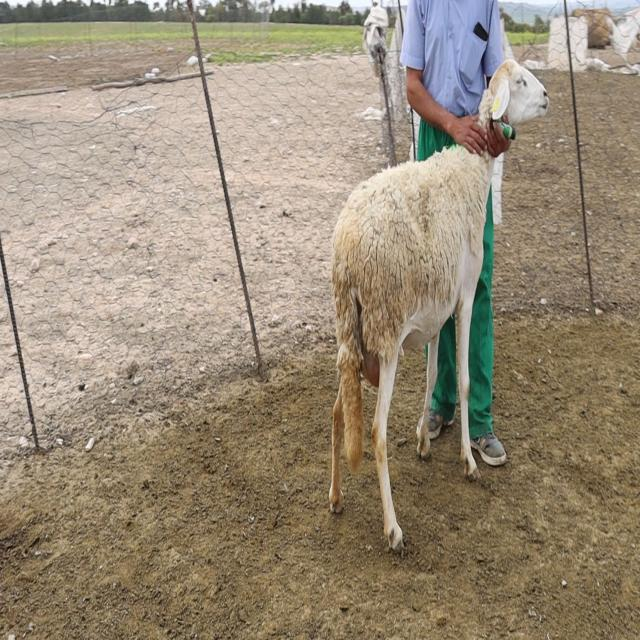Score_2: (329, 146, 494, 551)
